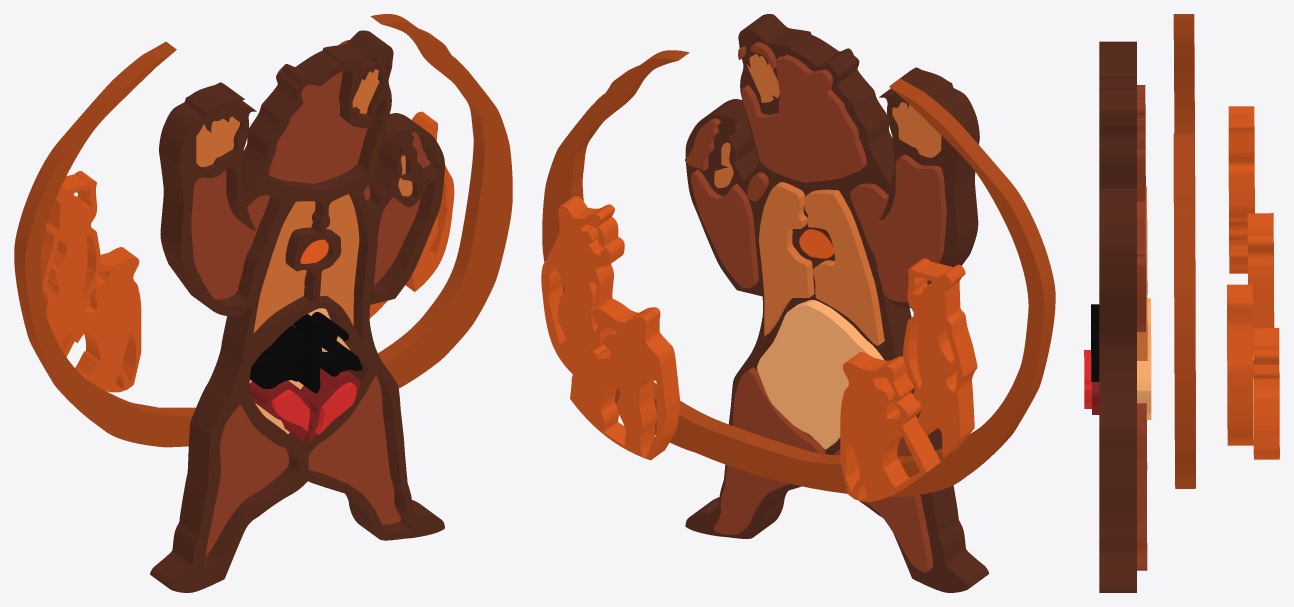
Rendered from bear_layered_light.glb.
3 views of the same model, side by side, from view 1: azimuth 30°, elevation 25°; view 2: azimuth 150°, elevation 25°; view 3: azimuth 270°, elevation 25° (orthographic). The views are drawn at different scales.
Parts seen in each view (by area): view 1: bear_drk brown, Curve.004, Curve.019, Curve, Curve.001, Curve.007, Curve.021, Curve.024, Curve.002, Curve.016, Curve.025; view 2: Curve.019, bear_drk brown, Curve.004, Curve.003, Curve.007, Curve, Curve.001, Curve.017, Curve.002, Curve.016, Curve.012; view 3: bear_drk brown, Curve.004, Curve.002, Curve, Curve.019, Curve.003, Curve.001, Curve.017, Curve.021, Curve.007, Curve.025.
Boxes of the visible parts, x1=… form: bear_drk brown: x1=150, y1=30, x2=444, y2=592; Curve.004: x1=14, y1=14, x2=512, y2=447; Curve.019: x1=191, y1=40, x2=430, y2=555; Curve: x1=40, y1=171, x2=100, y2=350; Curve.001: x1=62, y1=247, x2=141, y2=392; Curve.007: x1=253, y1=194, x2=359, y2=333; Curve.021: x1=250, y1=312, x2=362, y2=393; Curve.024: x1=249, y1=368, x2=360, y2=443; Curve.002: x1=377, y1=111, x2=454, y2=291; Curve.016: x1=196, y1=69, x2=412, y2=196; Curve.025: x1=271, y1=382, x2=356, y2=434; Curve.019: x1=685, y1=42, x2=946, y2=572; bear_drk brown: x1=685, y1=14, x2=988, y2=592; Curve.004: x1=542, y1=50, x2=1055, y2=497; Curve.003: x1=570, y1=298, x2=679, y2=460; Curve.007: x1=759, y1=182, x2=884, y2=345; Curve: x1=903, y1=258, x2=977, y2=457; Curve.001: x1=840, y1=352, x2=940, y2=501; Curve.017: x1=757, y1=300, x2=884, y2=449; Curve.002: x1=541, y1=196, x2=624, y2=373; Curve.016: x1=714, y1=54, x2=941, y2=187; Curve.012: x1=799, y1=229, x2=834, y2=258; bear_drk brown: x1=1099, y1=41, x2=1136, y2=592; Curve.004: x1=1173, y1=14, x2=1195, y2=488; Curve.002: x1=1227, y1=284, x2=1253, y2=445; Curve: x1=1228, y1=106, x2=1254, y2=273; Curve.019: x1=1137, y1=85, x2=1147, y2=570; Curve.003: x1=1253, y1=328, x2=1279, y2=459; Curve.001: x1=1247, y1=213, x2=1274, y2=355; Curve.017: x1=1137, y1=298, x2=1151, y2=419; Curve.021: x1=1091, y1=304, x2=1099, y2=381; Curve.007: x1=1137, y1=186, x2=1147, y2=360; Curve.025: x1=1084, y1=350, x2=1091, y2=408.
Bounding box in the file's own units: 205 × 204 × 76.2.
